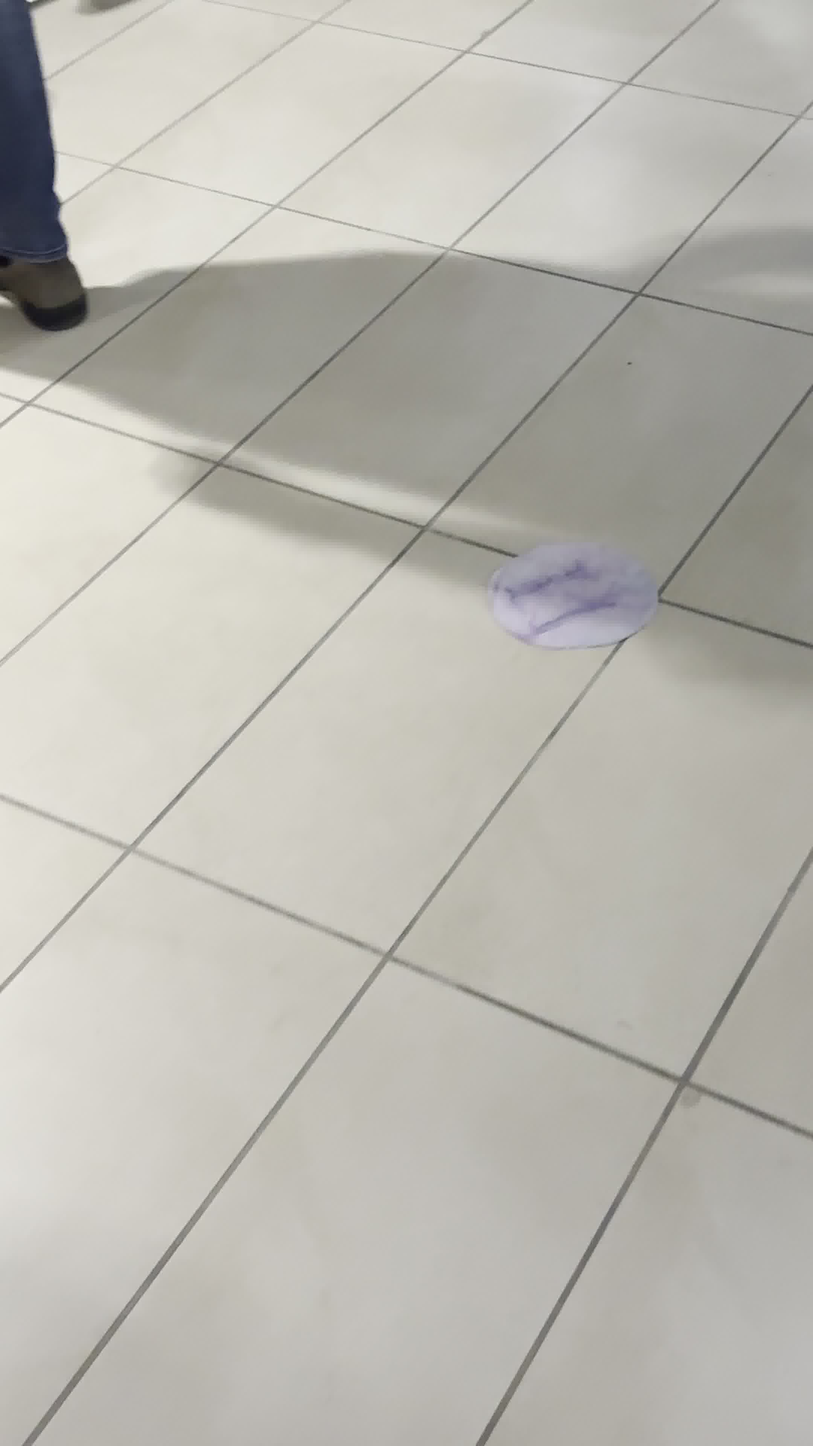Target: (492, 535, 658, 648)
